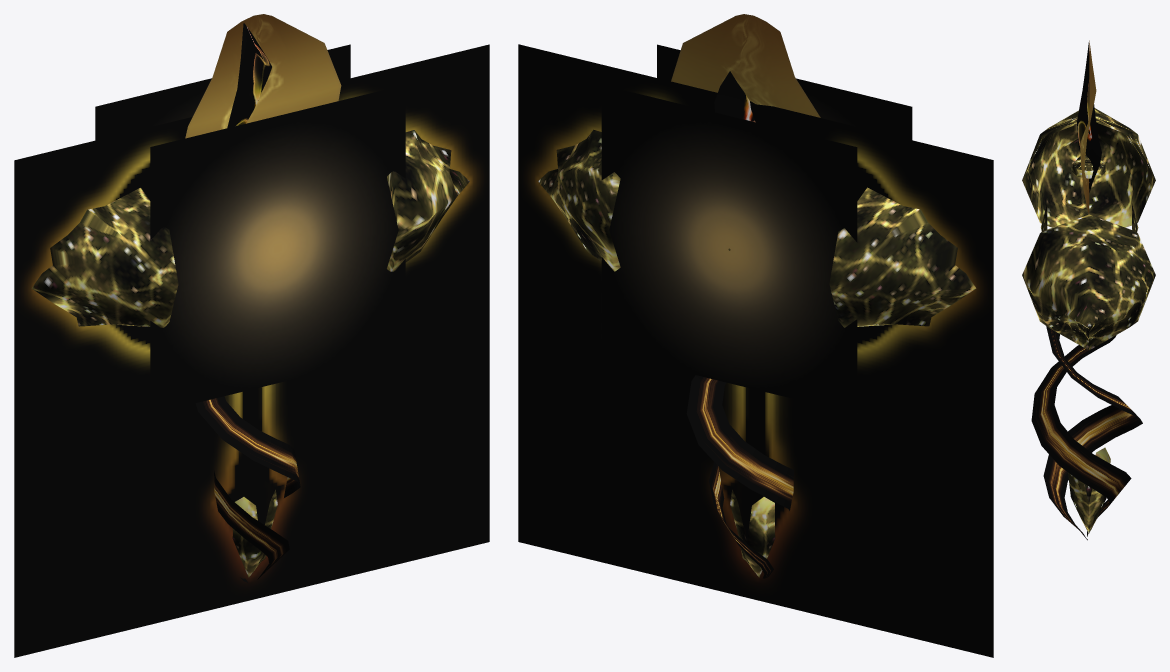
Rendered from diaozhuozhezhichuieffect.FBX.
The picture shows the model from 3 angles, left to right: view 1: azimuth 30°, elevation 25°; view 2: azimuth 150°, elevation 25°; view 3: azimuth 270°, elevation 25°; orthographic projection. The views are drawn at different scales.
Visible parts, largest first — view 1: 7_1, 3_1, 1_1, 5_1, 3_3, 6_1; view 2: 7_1, 3_1, 1_1, 5_1, 3_3, 6_1; view 3: 1_1, 3_3, 6_1, 5_1, 1_1_2.
Part boxes in pixels (box(x1,y1,x2,y2)): 7_1: box(14, 44, 489, 657); 3_1: box(95, 44, 405, 414); 1_1: box(31, 130, 469, 577); 5_1: box(185, 14, 341, 138); 3_3: box(195, 396, 300, 582); 6_1: box(227, 23, 271, 128); 7_1: box(518, 44, 993, 657); 3_1: box(601, 44, 912, 414); 1_1: box(538, 129, 976, 577); 5_1: box(671, 14, 820, 117); 3_3: box(686, 375, 793, 578); 6_1: box(714, 71, 755, 122); 1_1: box(1022, 108, 1155, 533); 3_3: box(1031, 326, 1142, 540); 6_1: box(1077, 42, 1101, 192); 5_1: box(1080, 40, 1096, 214); 1_1_2: box(1041, 155, 1138, 231).
Size of the model in its own units: 2.29 by 2.69 by 0.6326.
5 materials, 5 textured.
